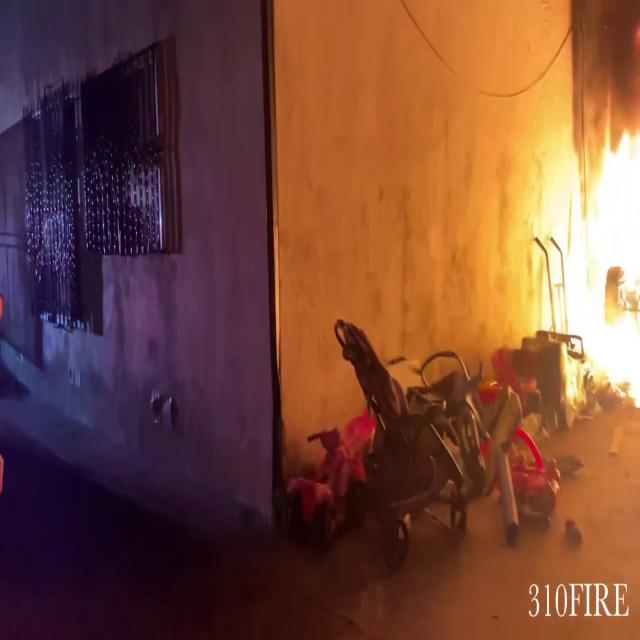Fire: (536, 91, 640, 417)
